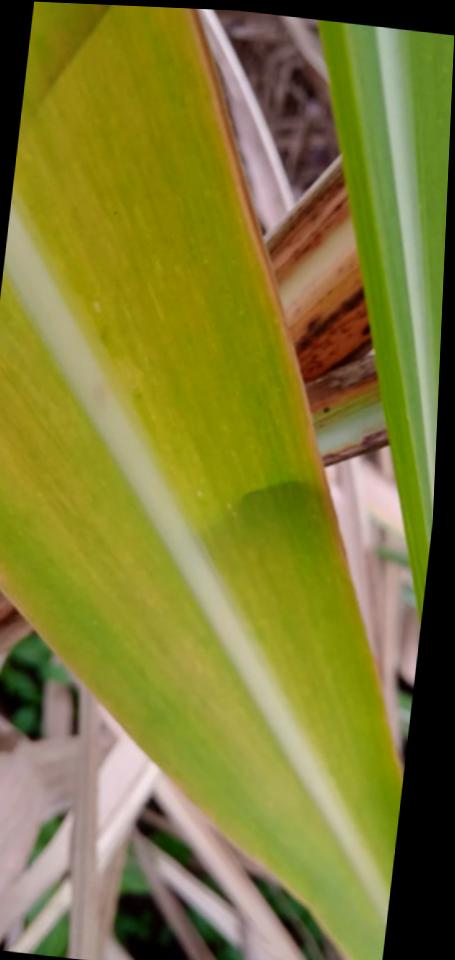Yellow: (185, 8, 352, 582)
